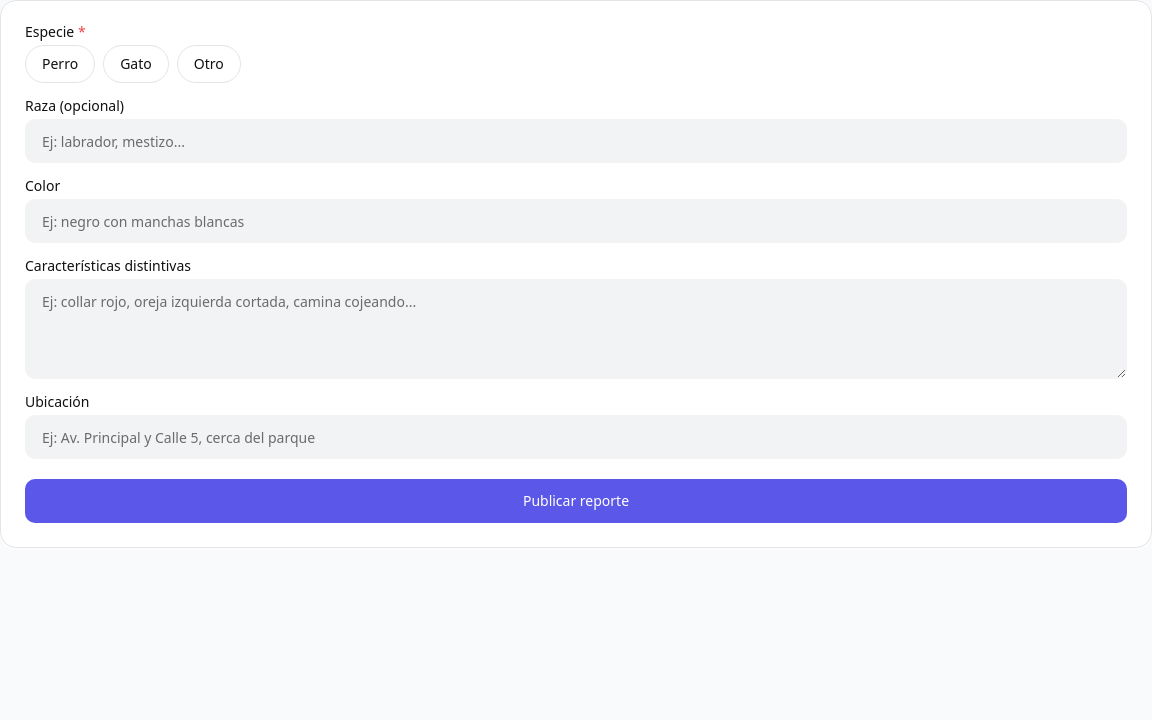
ReporteForm (HU1/HU3 — rediseño Figma) › HU9 — punto en el mapa › AC1: en ENCONTRADA sin punto y sin dirección aparece el error
Click the radio button labelled "perro" at (60, 64), box [25, 45, 95, 83]
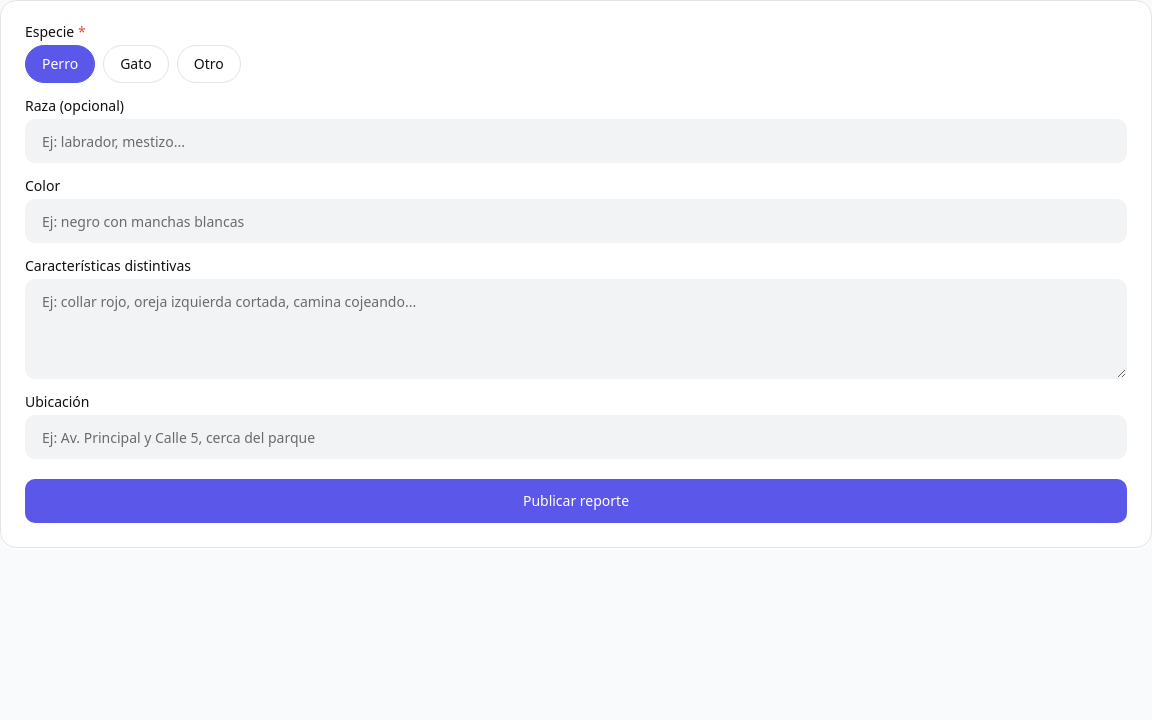
Type "negro" into the field labelled "Color" at (576, 221), box [25, 199, 1127, 243]
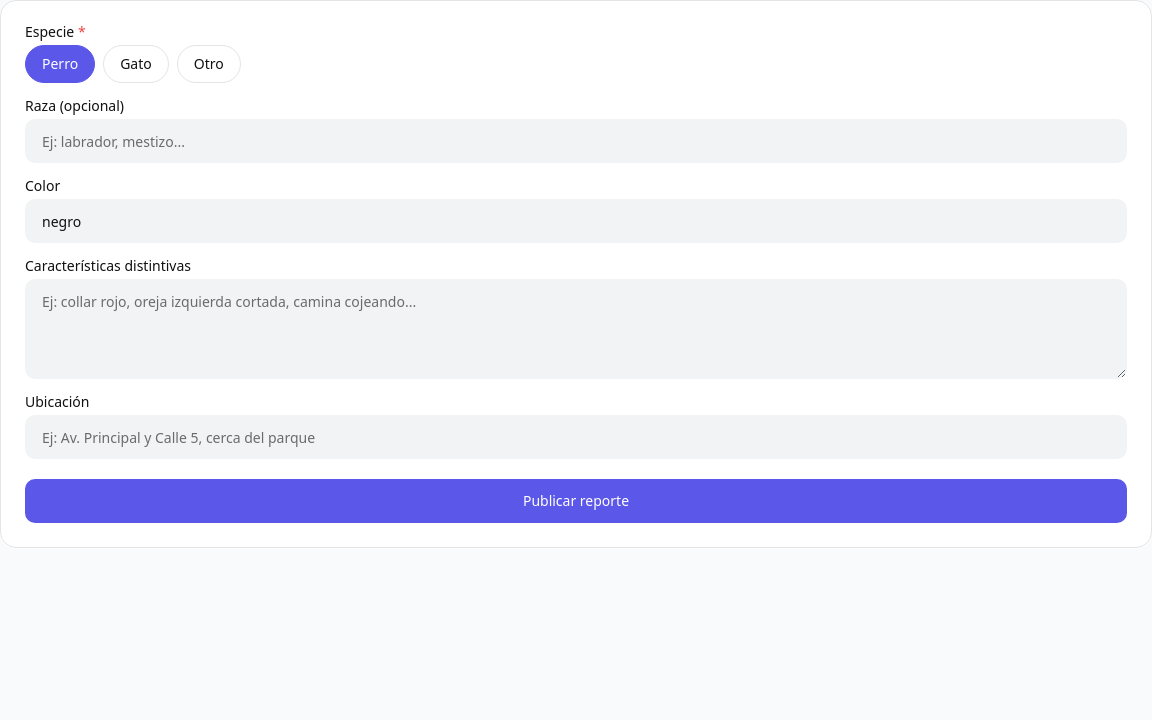
Type "collar rojo" into the text box labelled "Características distintivas" at (576, 329), box [25, 279, 1127, 379]
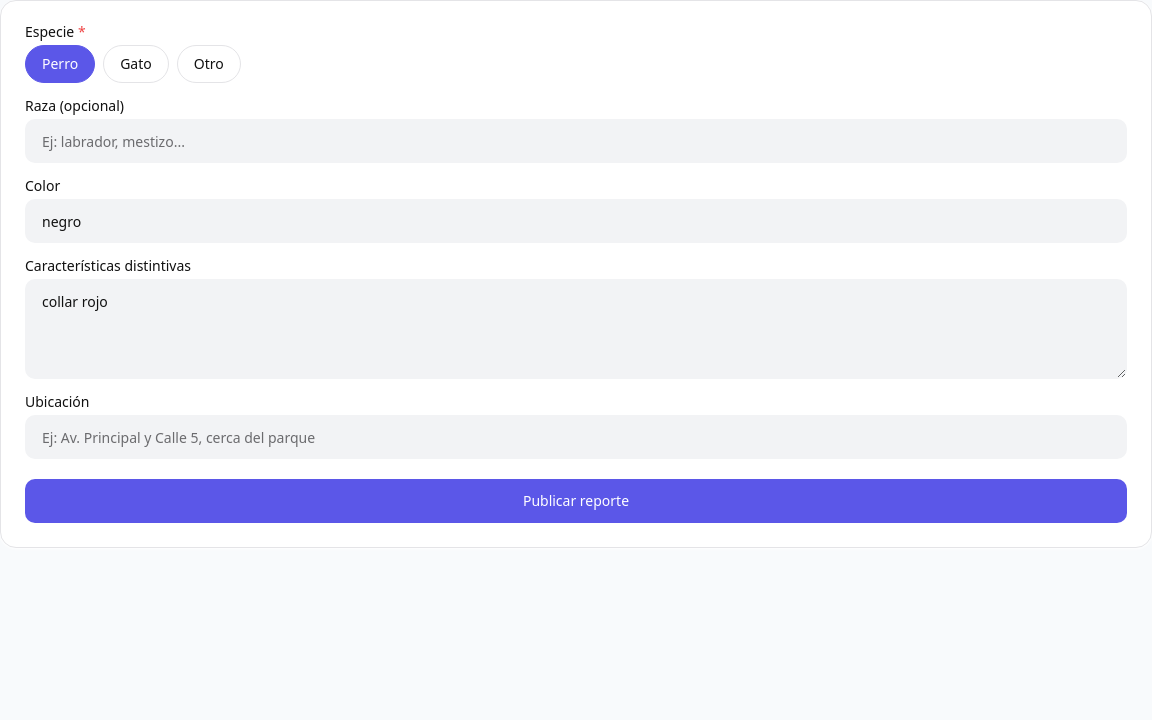
Click the button "Publicar reporte" at (576, 501), box [25, 479, 1127, 523]
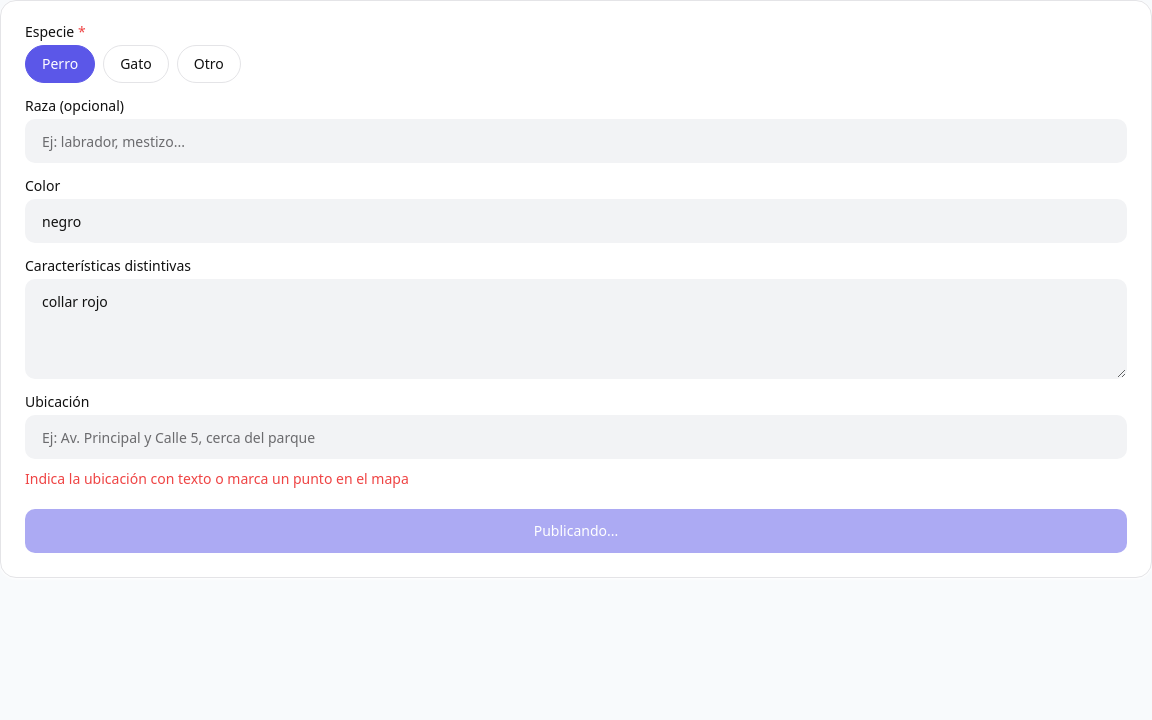
Expected: the text "Indica la ubicación con texto o marca un punto en el mapa" is shown, [25, 469, 409, 488]
